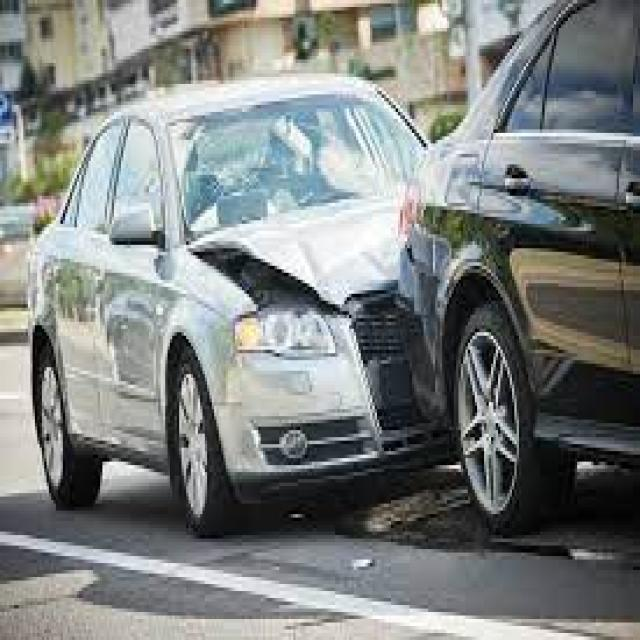accident: (40, 6, 640, 493)
